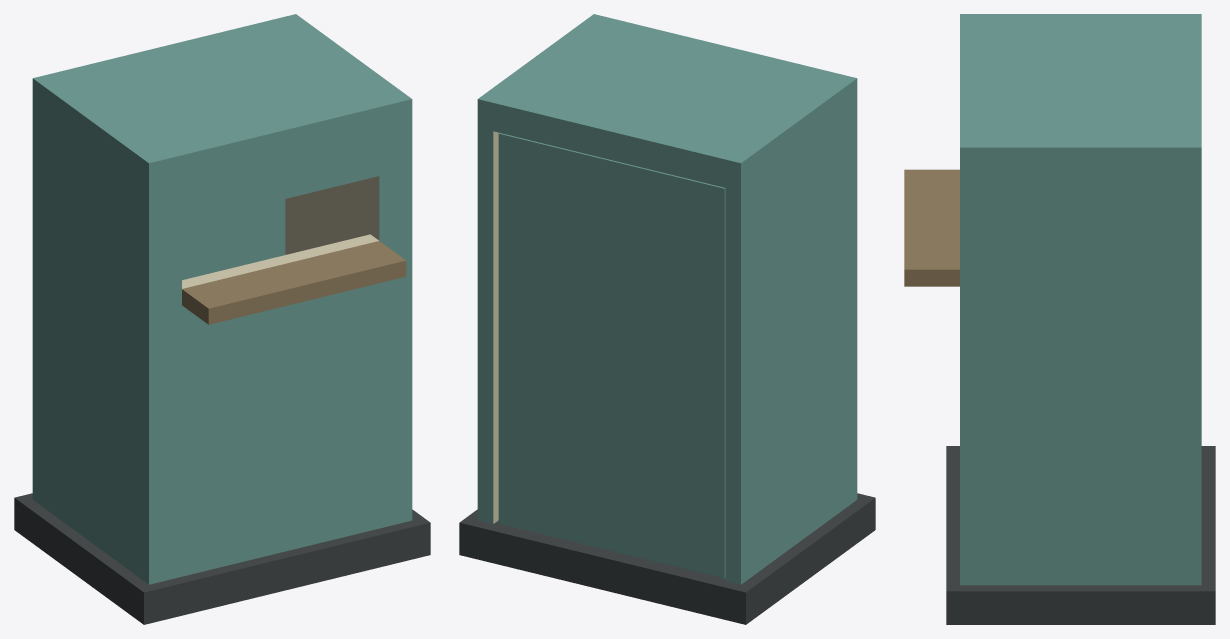
The picture shows the model from 3 angles, left to right: view 1: azimuth 30°, elevation 25°; view 2: azimuth 150°, elevation 25°; view 3: azimuth 270°, elevation 25°; orthographic projection. The views are drawn at different scales.
Parts seen in each view (by area): view 1: ContinuousDropChamberShell, BroadGroundPlinth, ProjectingReturnStagingLedge, FixedRecessedRearClosure; view 2: ContinuousDropChamberShell, FixedRecessedRearClosure, BroadGroundPlinth; view 3: ContinuousDropChamberShell, BroadGroundPlinth, ProjectingReturnStagingLedge.
Boxes of the visible parts, x1,y1,x2,y2 form: ContinuousDropChamberShell: (32, 14, 412, 584); BroadGroundPlinth: (14, 493, 430, 624); ProjectingReturnStagingLedge: (182, 241, 406, 324); FixedRecessedRearClosure: (182, 199, 285, 280); ContinuousDropChamberShell: (477, 14, 857, 584); FixedRecessedRearClosure: (498, 133, 725, 578); BroadGroundPlinth: (459, 493, 875, 624); ContinuousDropChamberShell: (960, 14, 1201, 585); BroadGroundPlinth: (946, 446, 1215, 624); ProjectingReturnStagingLedge: (904, 169, 959, 286).
Bounding box in the file's own units: 0.74 × 1.12 × 0.67.
